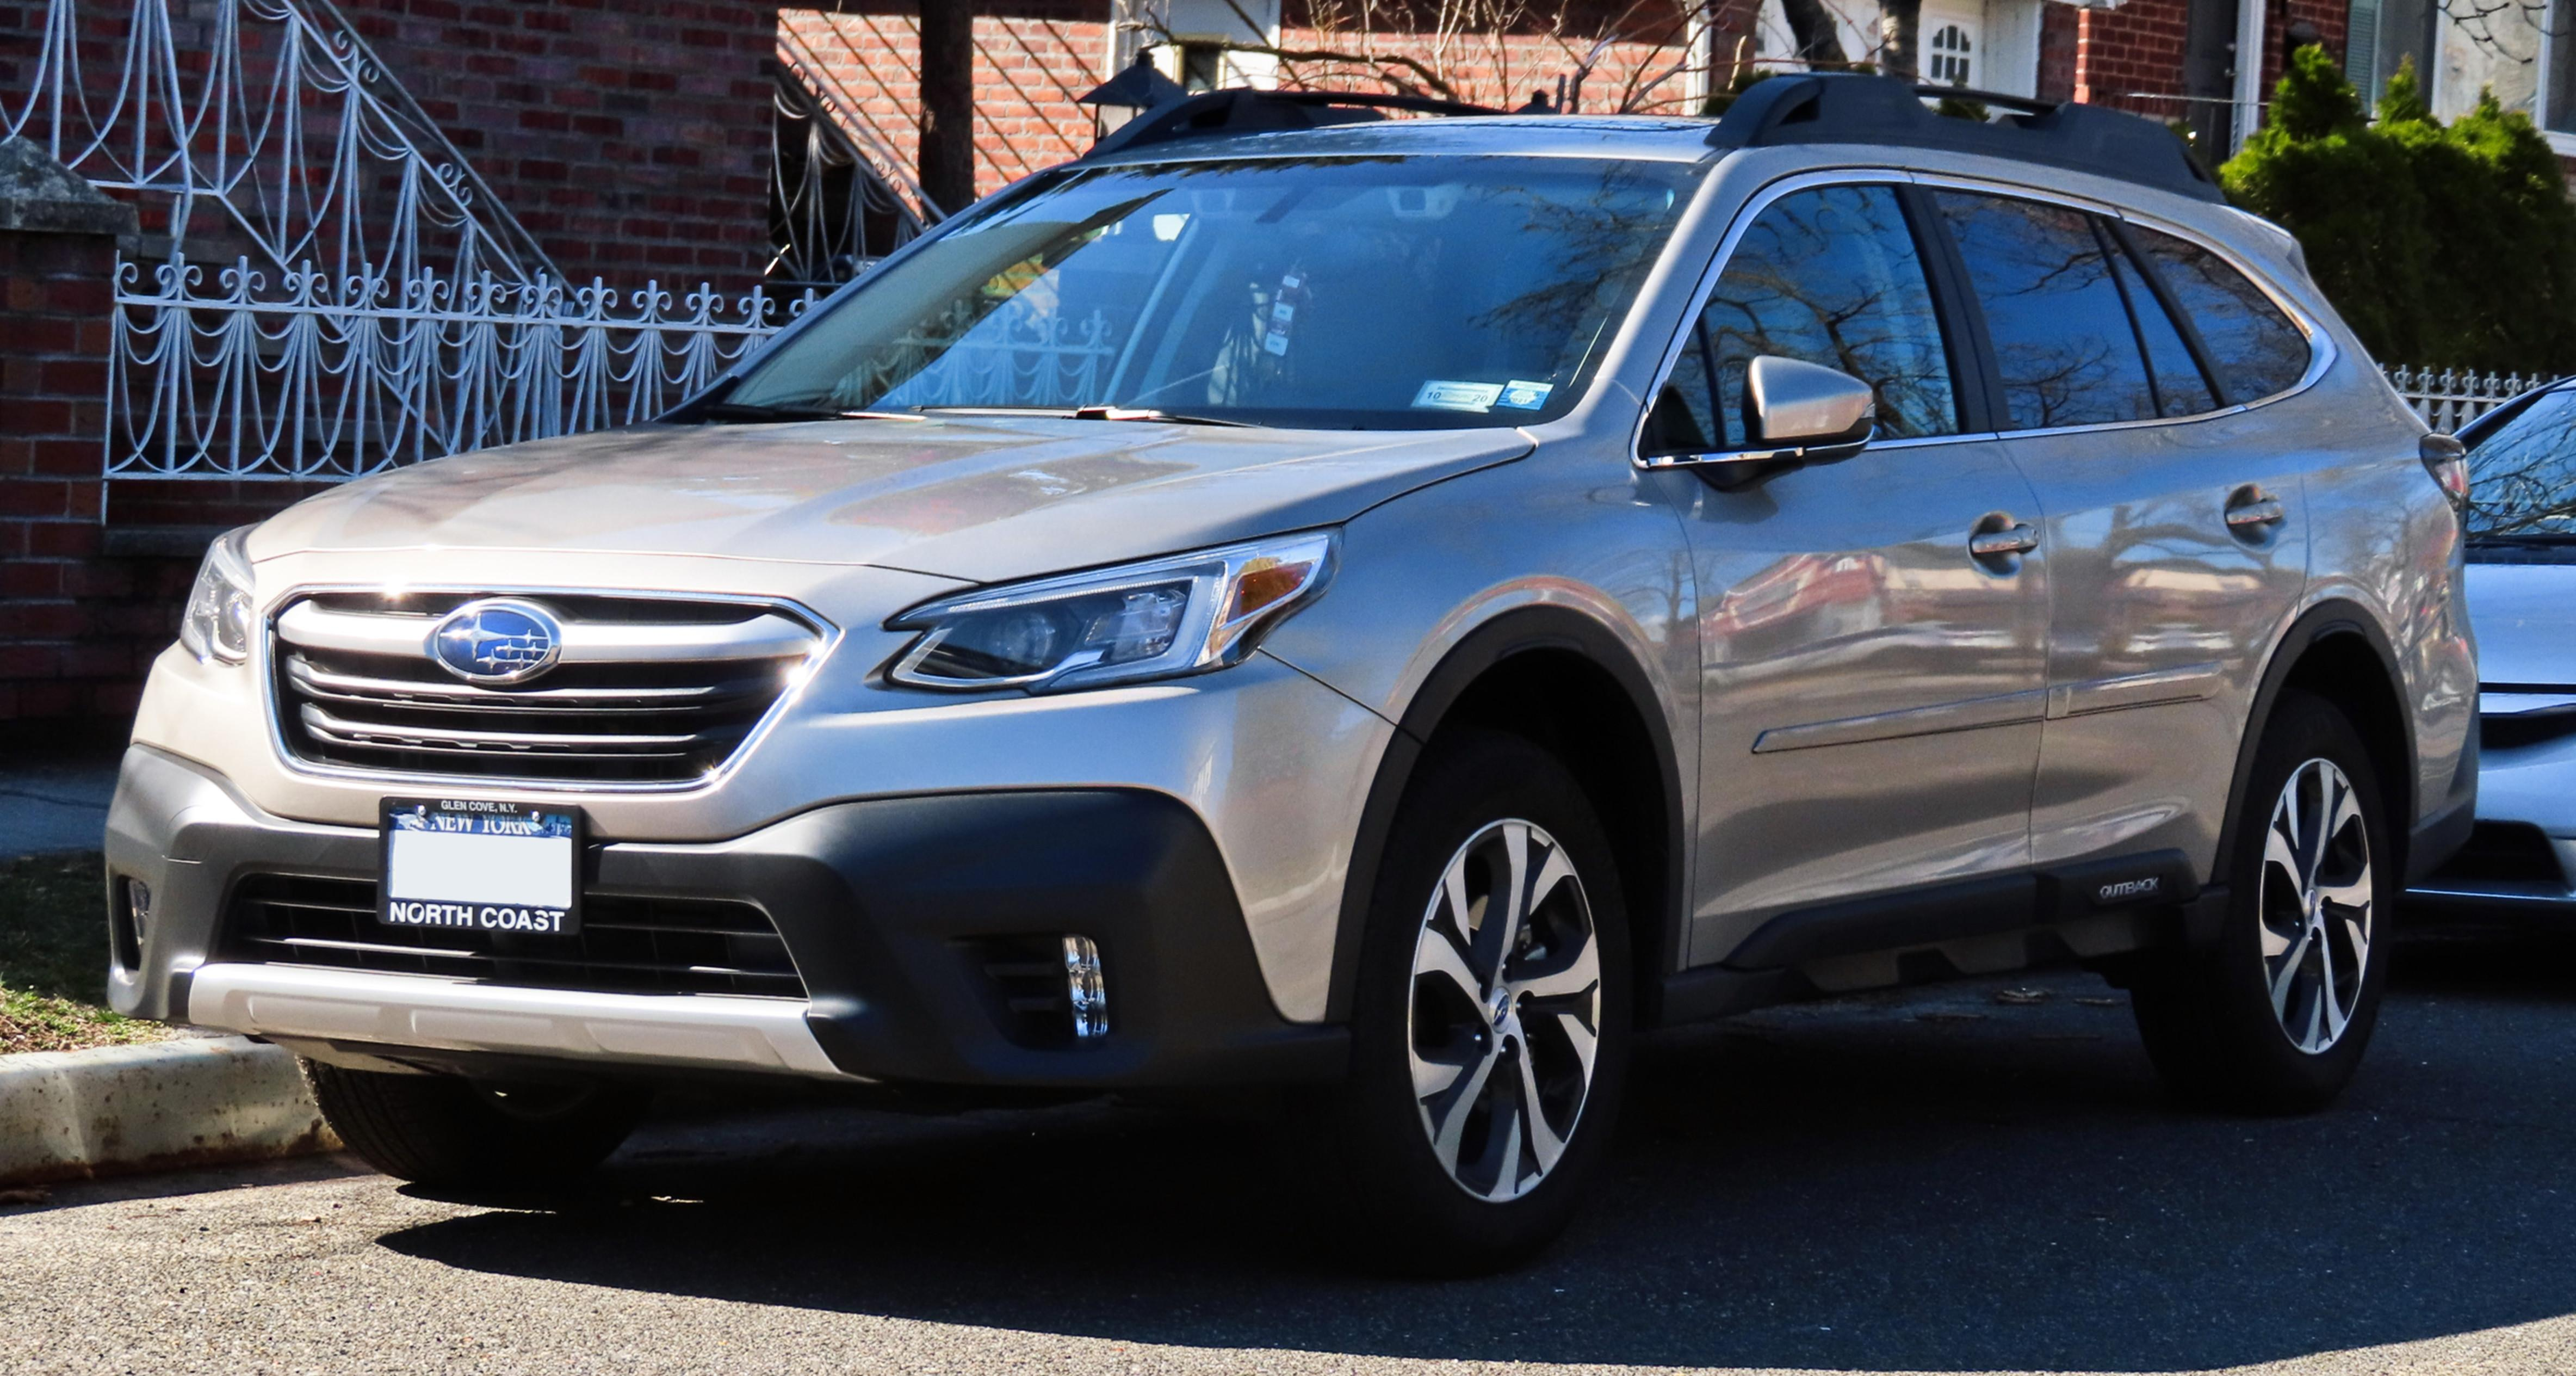subaru: (411, 585, 589, 704)
